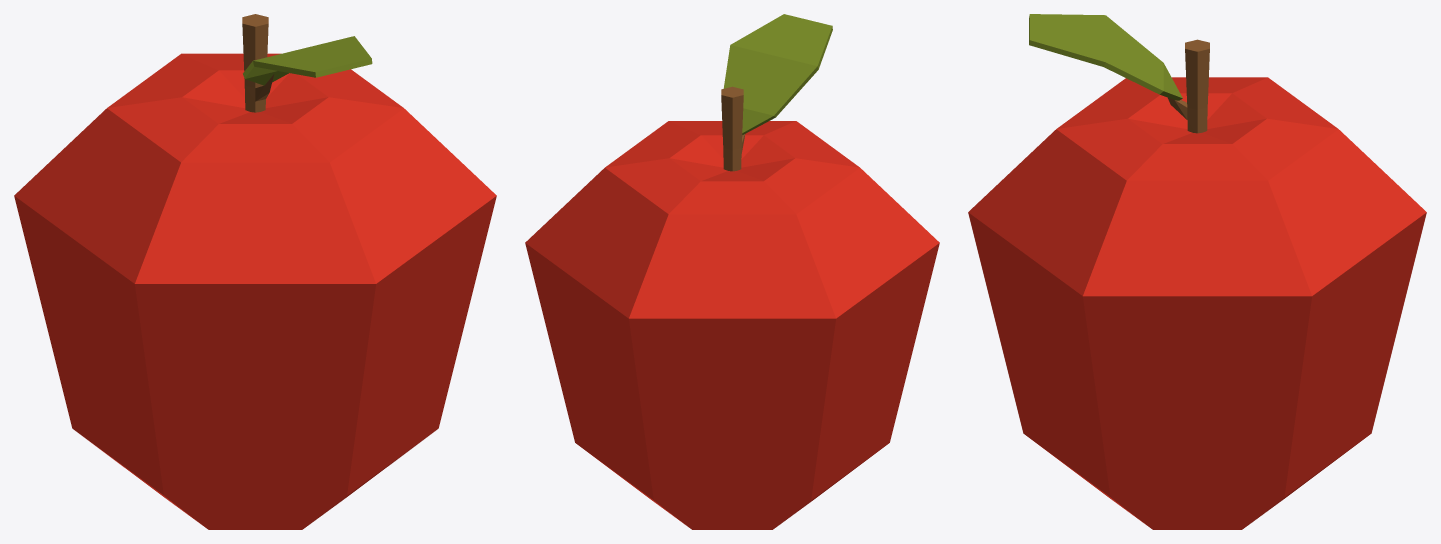
The model's file is Apple_Red.fbx.
3 views of the same model, side by side, from view 1: azimuth 30°, elevation 25°; view 2: azimuth 150°, elevation 25°; view 3: azimuth 270°, elevation 25° (orthographic). The views are drawn at different scales.
Visible parts, largest first — view 1: Apple_Red_All, Apple_Red_Piece; view 2: Apple_Red_All, Apple_Red_Piece; view 3: Apple_Red_All, Apple_Red_Piece.
Boxes of the visible parts, x1,y1,x2,y2 form: Apple_Red_All: (14, 14, 496, 529); Apple_Red_Piece: (22, 16, 375, 529); Apple_Red_All: (525, 14, 939, 524); Apple_Red_Piece: (629, 92, 912, 529); Apple_Red_All: (968, 14, 1426, 529); Apple_Red_Piece: (1133, 41, 1279, 128).
Bounding box in the file's own units: 6.99 × 9.14 × 8.08.
